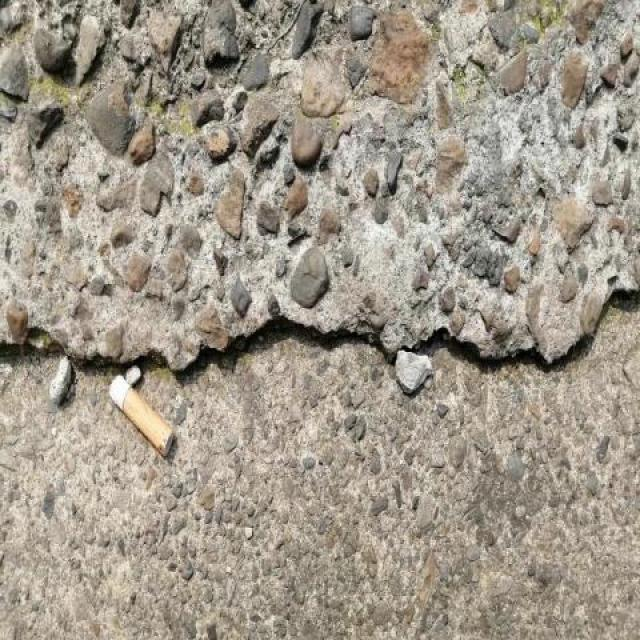non-organic waste: (100, 370, 176, 459)
